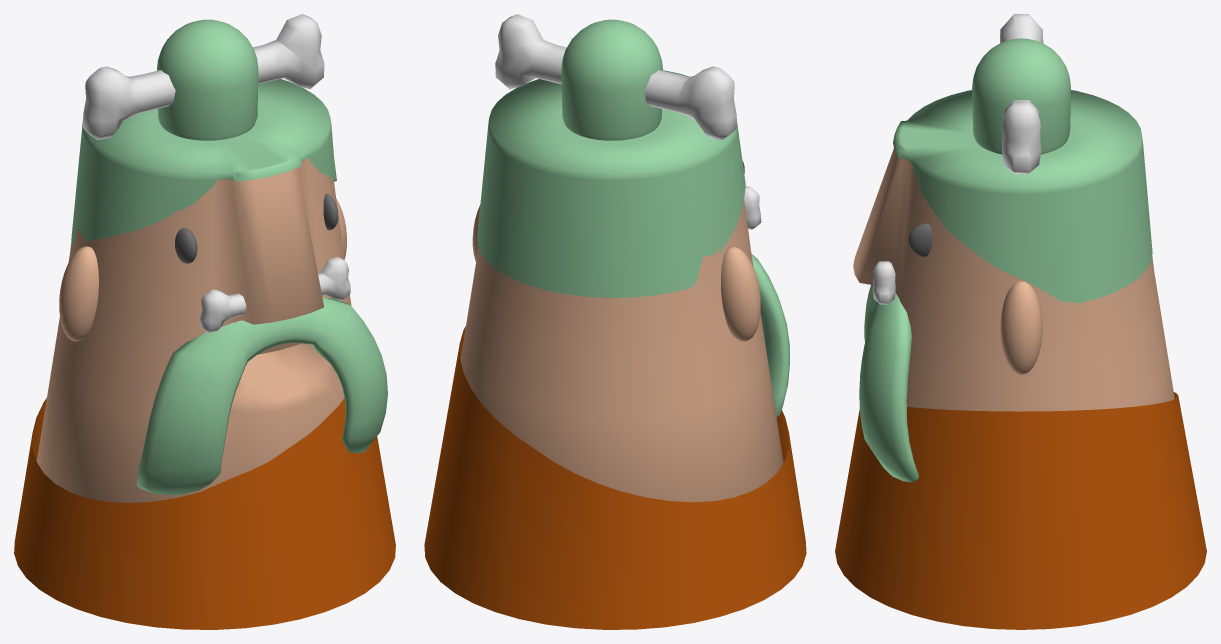
The model's file is cavemanMesh.glb.
3 views of the same model, side by side, from view 1: azimuth 30°, elevation 25°; view 2: azimuth 150°, elevation 25°; view 3: azimuth 270°, elevation 25° (orthographic). The views are drawn at different scales.
Visible parts, largest first — view 1: BOdy, clothe, Torus, Hair, Sphere, Hueso Head, Hueso Head.001, Eye R.001; view 2: BOdy, clothe, Hair, Sphere, Hueso Head, Torus, Hueso Head.001; view 3: clothe, BOdy, Hair, Sphere, Torus, Hueso Head, Hueso Head.001, Eye R.
Part boxes in pixels (x1,y1,x2,y2): BOdy: (36,157,351,502); clothe: (14,398,395,629); Torus: (136,297,387,495); Hair: (71,79,336,246); Sphere: (157,19,258,140); Hueso Head: (83,14,324,139); Hueso Head.001: (200,256,350,332); Eye R.001: (175,228,197,263); BOdy: (460,199,783,502); clothe: (424,326,806,629); Hair: (477,70,745,297); Sphere: (561,19,662,140); Hueso Head: (495,14,736,140); Torus: (751,253,789,416); Hueso Head.001: (744,186,761,229); clothe: (835,392,1206,629); BOdy: (853,148,1174,411); Hair: (893,90,1152,303); Sphere: (972,38,1070,154); Torus: (859,285,918,482); Hueso Head: (1000,14,1043,173); Hueso Head.001: (872,261,895,304); Eye R: (908,223,932,257).
Bounding box in the file's own units: 2.8 × 4.23 × 2.8.
